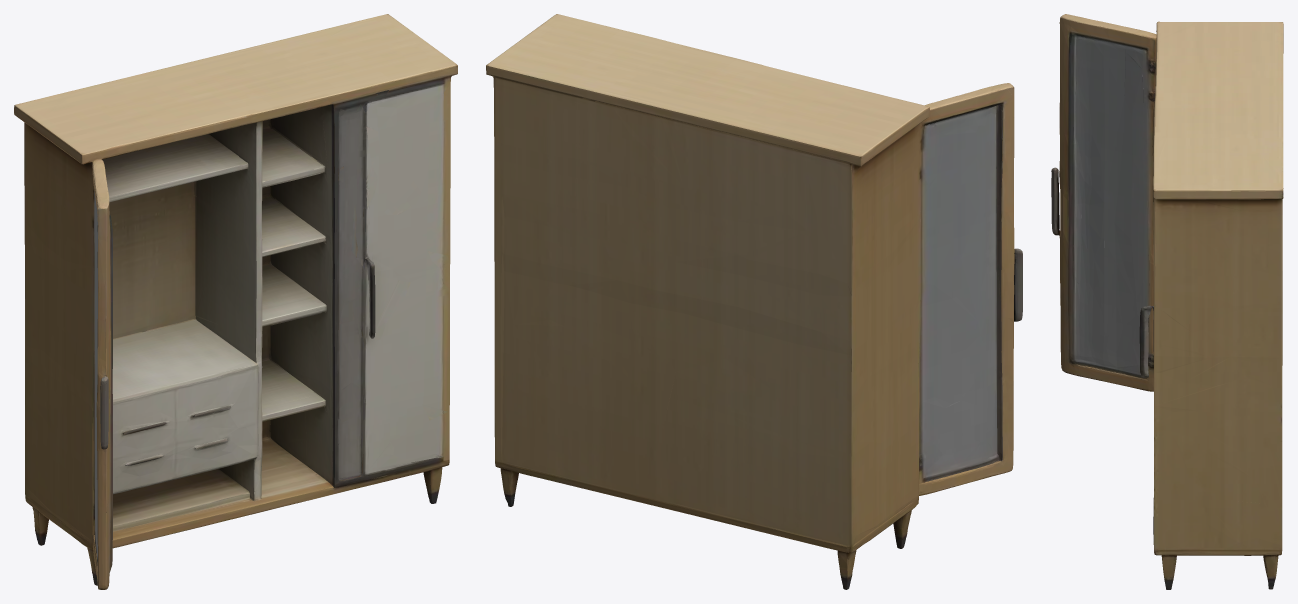
File: wardrobe_open.glb
The picture shows the model from 3 angles, left to right: view 1: azimuth 30°, elevation 25°; view 2: azimuth 150°, elevation 25°; view 3: azimuth 270°, elevation 25°; orthographic projection. The views are drawn at different scales.
Parts seen in each view (by area): view 1: geometry_0; view 2: geometry_0; view 3: geometry_0.
Part boxes in pixels (x1,y1,x2,y2): geometry_0: (14,14,457,589); geometry_0: (486,14,1022,589); geometry_0: (1051,14,1283,589).
Bounding box in the file's own units: 0.9765 × 1 × 0.5166.
Materials: 1 (1 with a texture image).
